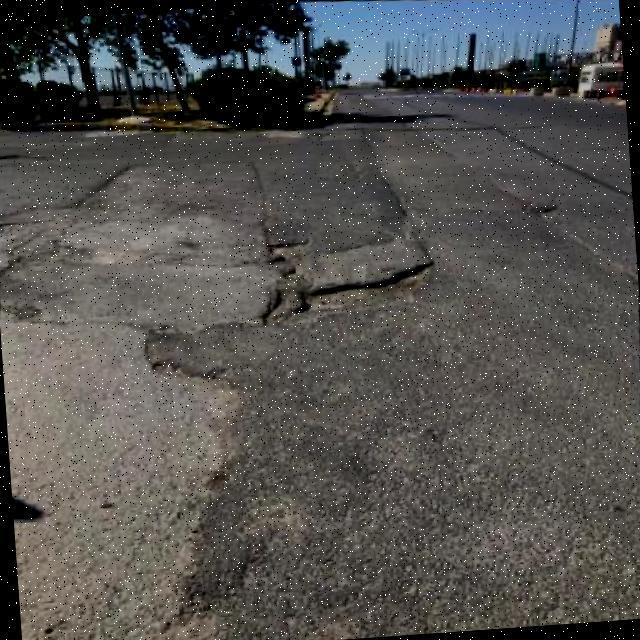Pothole: (264, 264, 432, 325)
